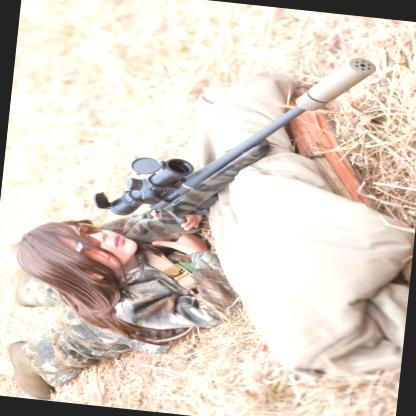rifle: (85, 32, 378, 276)
